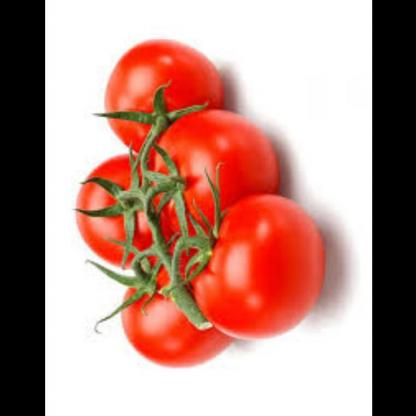tomato: (180, 196, 328, 352), (145, 113, 282, 252), (101, 34, 225, 158), (117, 256, 235, 368), (74, 155, 170, 273)
